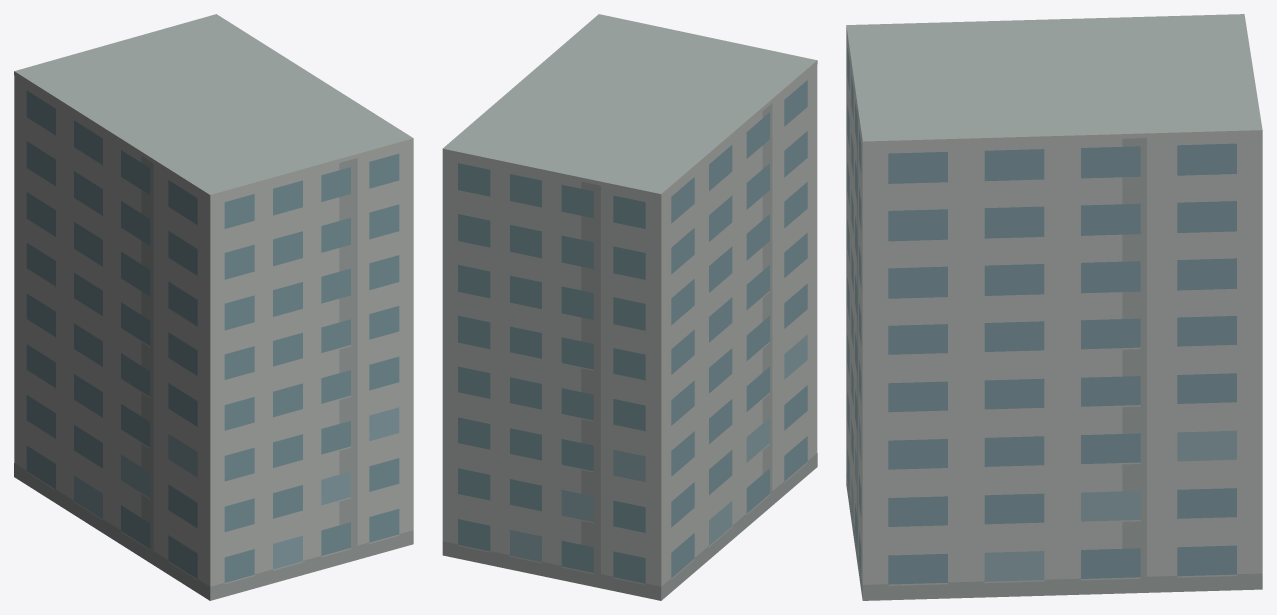
File: survey-upis-32908740.glb
3 views of the same model, side by side, from view 1: azimuth 30°, elevation 25°; view 2: azimuth 150°, elevation 25°; view 3: azimuth 270°, elevation 25° (orthographic). The views are drawn at different scales.
Parts seen in each view (by area): view 1: survey-upis-32908740.tmp; view 2: survey-upis-32908740.tmp; view 3: survey-upis-32908740.tmp.
Part boxes in pixels (bbox=[...]): survey-upis-32908740.tmp: bbox=[14, 14, 413, 600]; survey-upis-32908740.tmp: bbox=[442, 14, 817, 600]; survey-upis-32908740.tmp: bbox=[846, 14, 1262, 600].
Bounding box in the file's own units: 14.53 × 24.4 × 20.05.
